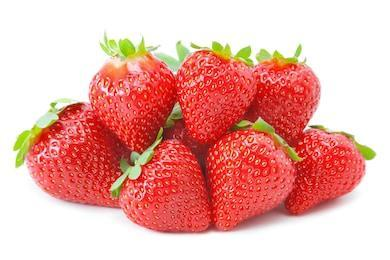Fresa: (19, 98, 147, 210), (201, 119, 297, 234), (117, 135, 215, 239), (86, 48, 176, 154), (282, 122, 375, 220), (174, 47, 259, 148), (252, 53, 323, 147)
